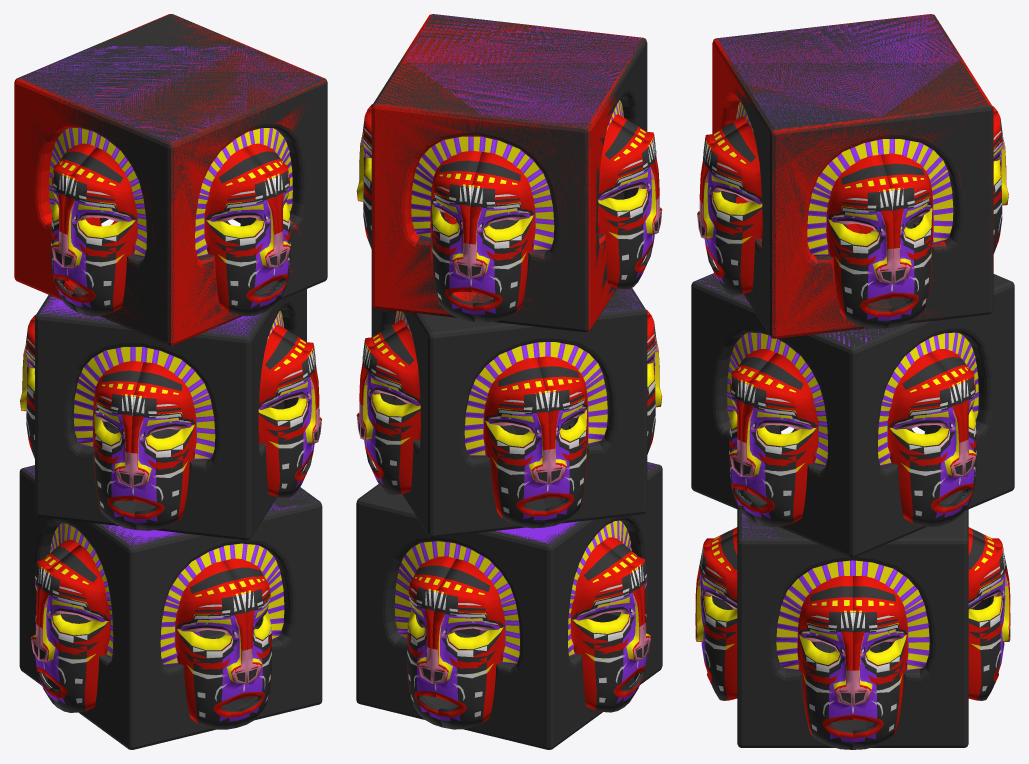
Rendered from Pillars.fbx.
The picture shows the model from 3 angles, left to right: view 1: azimuth 30°, elevation 25°; view 2: azimuth 150°, elevation 25°; view 3: azimuth 270°, elevation 25°; orthographic projection. The views are drawn at different scales.
Parts seen in each view (by area): view 1: BlackCube_3, BlackCube_1, BlackCube_2, RedCube_3, PurpleCube_3, RedCube_2, PurpleCube_2, PurpleCube_1, RedCube_1; view 2: BlackCube_3, BlackCube_1, BlackCube_2, RedCube_3, PurpleCube_3, RedCube_2, PurpleCube_1, RedCube_1, PurpleCube_2; view 3: BlackCube_3, BlackCube_2, BlackCube_1, RedCube_3, PurpleCube_3, RedCube_1, RedCube_2, PurpleCube_1, PurpleCube_2.
Part boxes in pixels (x1,y1,x2,y2): BlackCube_3: [14, 14, 327, 345]; BlackCube_1: [19, 465, 322, 749]; BlackCube_2: [20, 289, 321, 540]; RedCube_3: [14, 14, 325, 345]; PurpleCube_3: [20, 46, 321, 307]; RedCube_2: [20, 315, 321, 521]; PurpleCube_2: [21, 297, 321, 539]; PurpleCube_1: [24, 467, 315, 721]; RedCube_1: [31, 539, 271, 726]; BlackCube_3: [356, 14, 662, 332]; BlackCube_1: [356, 462, 662, 749]; BlackCube_2: [356, 288, 662, 537]; RedCube_3: [357, 14, 661, 331]; PurpleCube_3: [358, 15, 661, 314]; RedCube_2: [357, 309, 661, 522]; PurpleCube_1: [394, 463, 657, 721]; RedCube_1: [407, 537, 650, 725]; PurpleCube_2: [357, 289, 660, 520]; BlackCube_3: [697, 14, 1008, 338]; BlackCube_2: [691, 273, 1014, 557]; BlackCube_1: [695, 509, 1010, 749]; RedCube_3: [698, 14, 1008, 338]; PurpleCube_3: [697, 14, 1007, 320]; RedCube_1: [696, 527, 1009, 735]; RedCube_2: [729, 349, 976, 525]; PurpleCube_1: [695, 513, 1010, 742]; PurpleCube_2: [696, 274, 978, 518].
Bounding box in the file's own units: 6.99 × 15 × 6.99.
